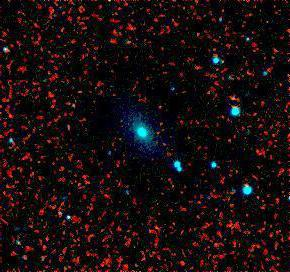star: (233, 26, 263, 56)
